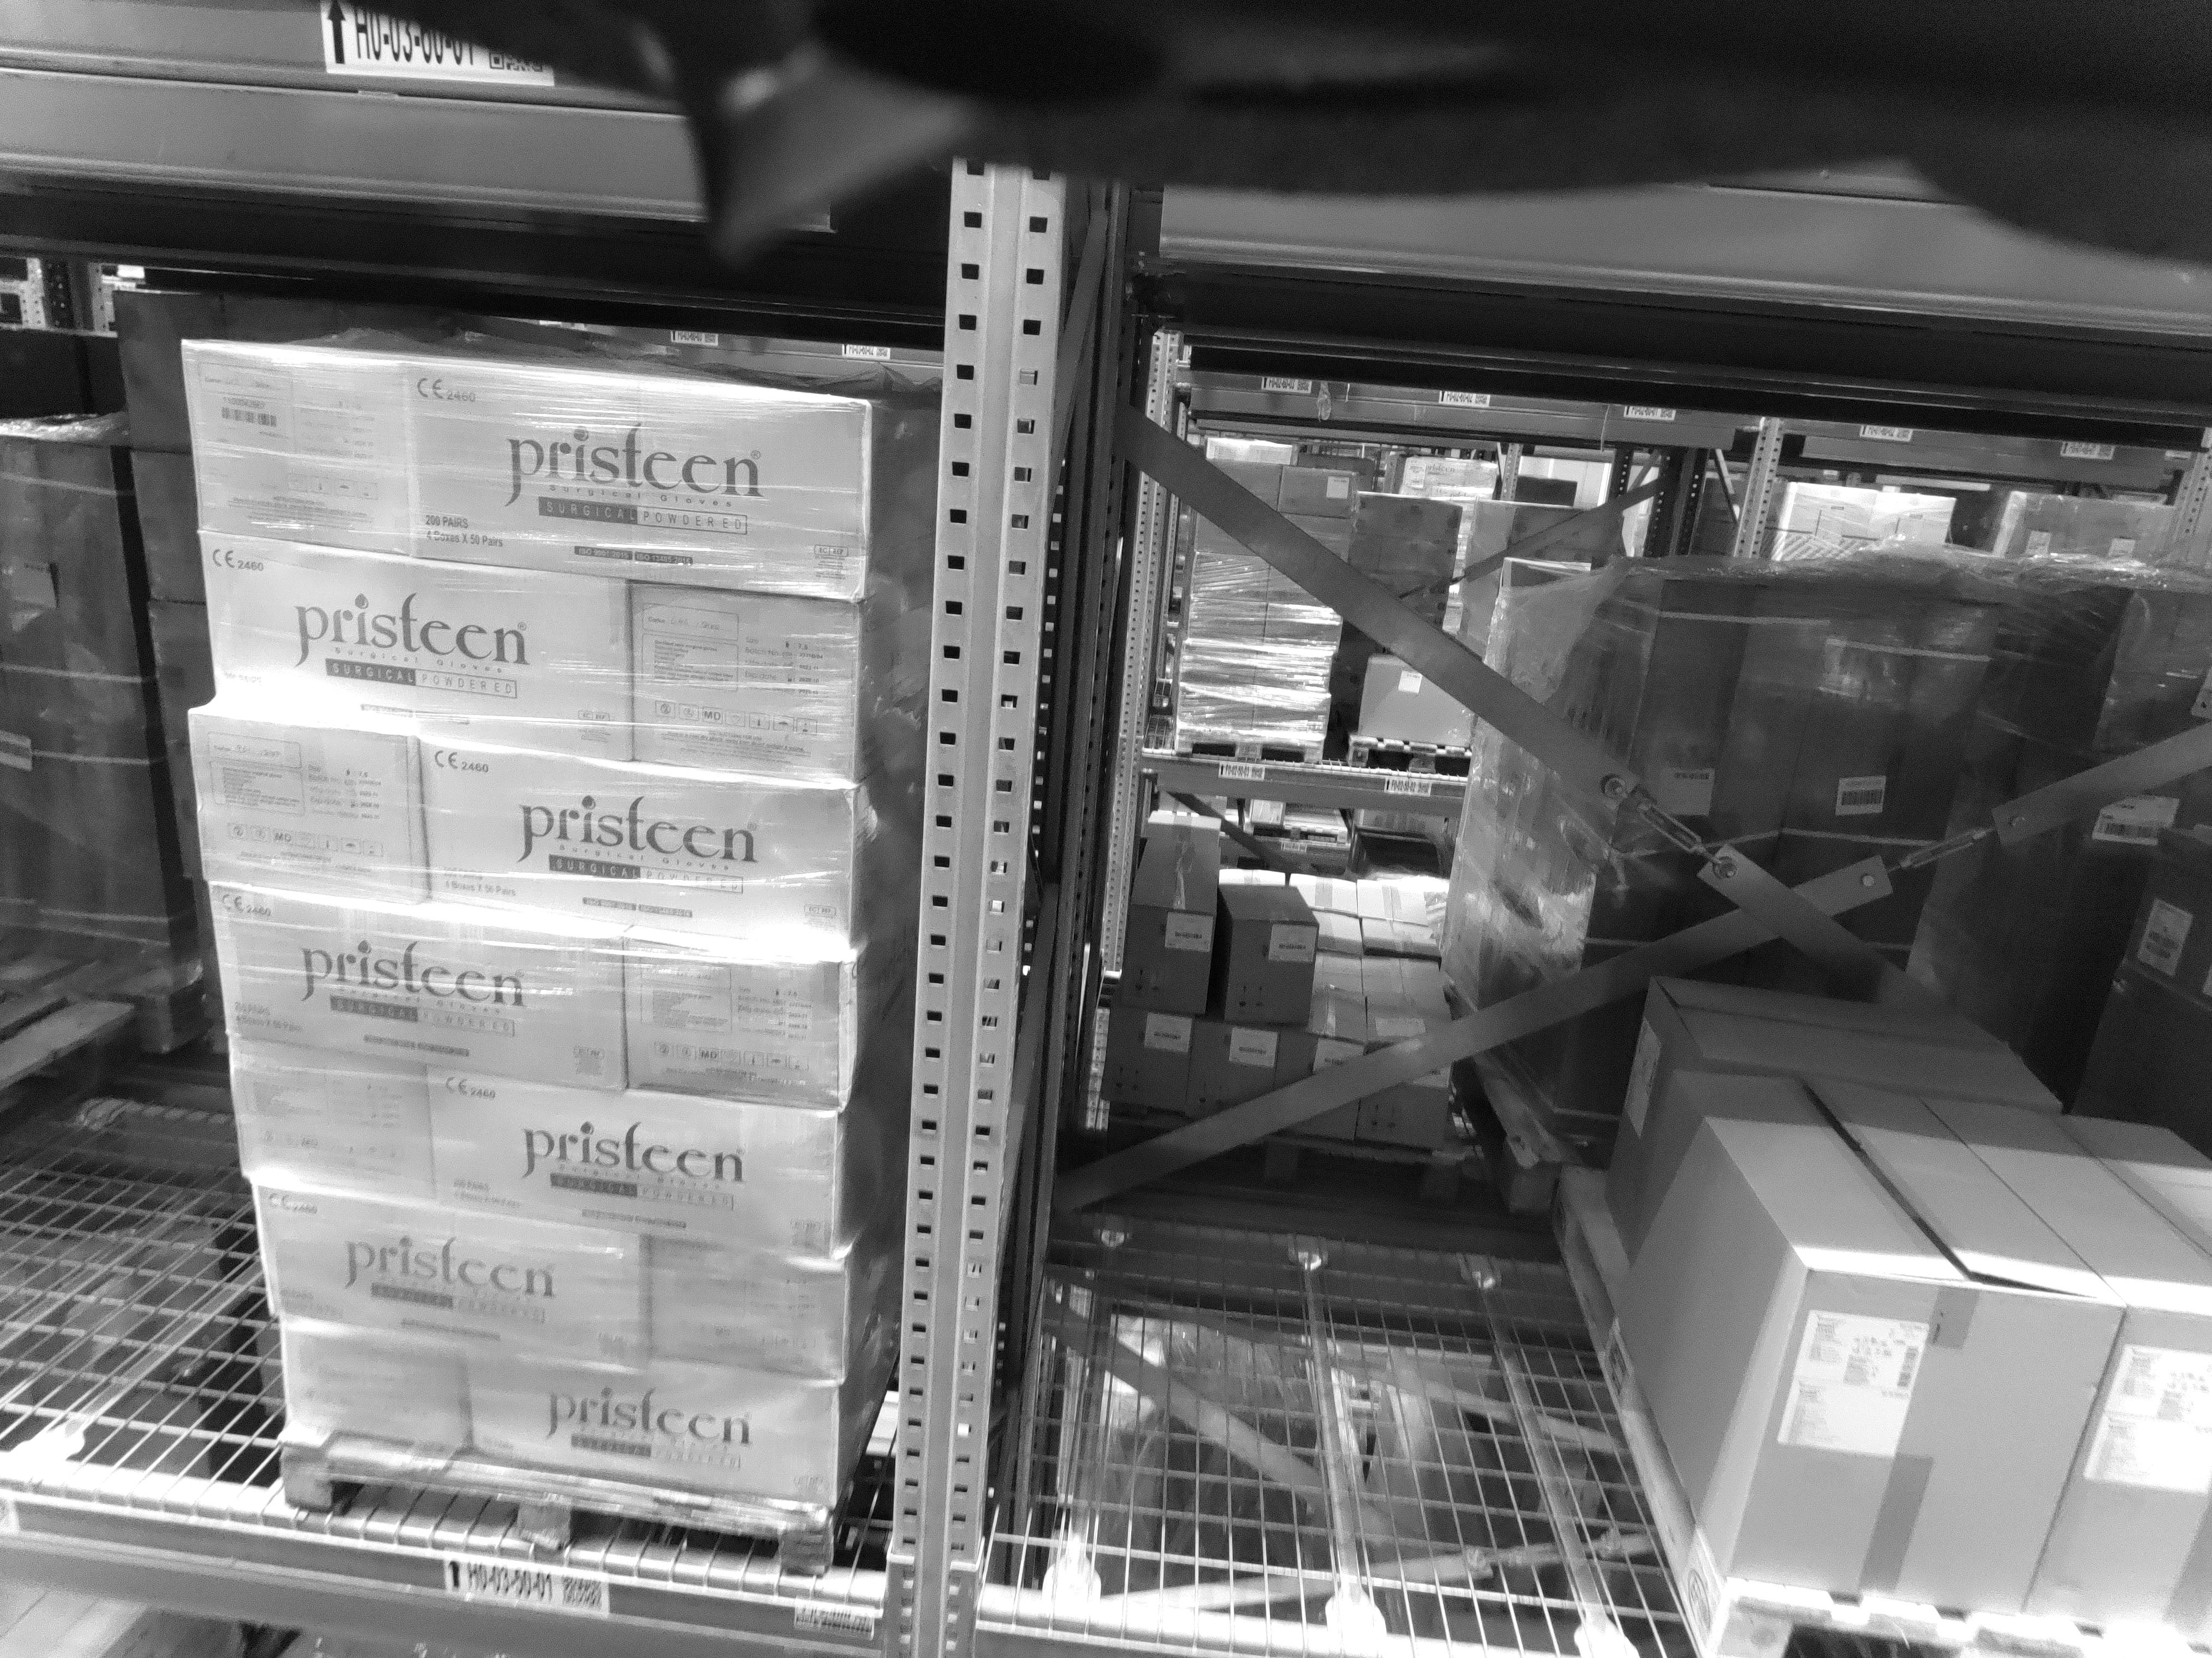empty-shelf: (1087, 289, 1609, 1651), (3, 193, 192, 1493)
